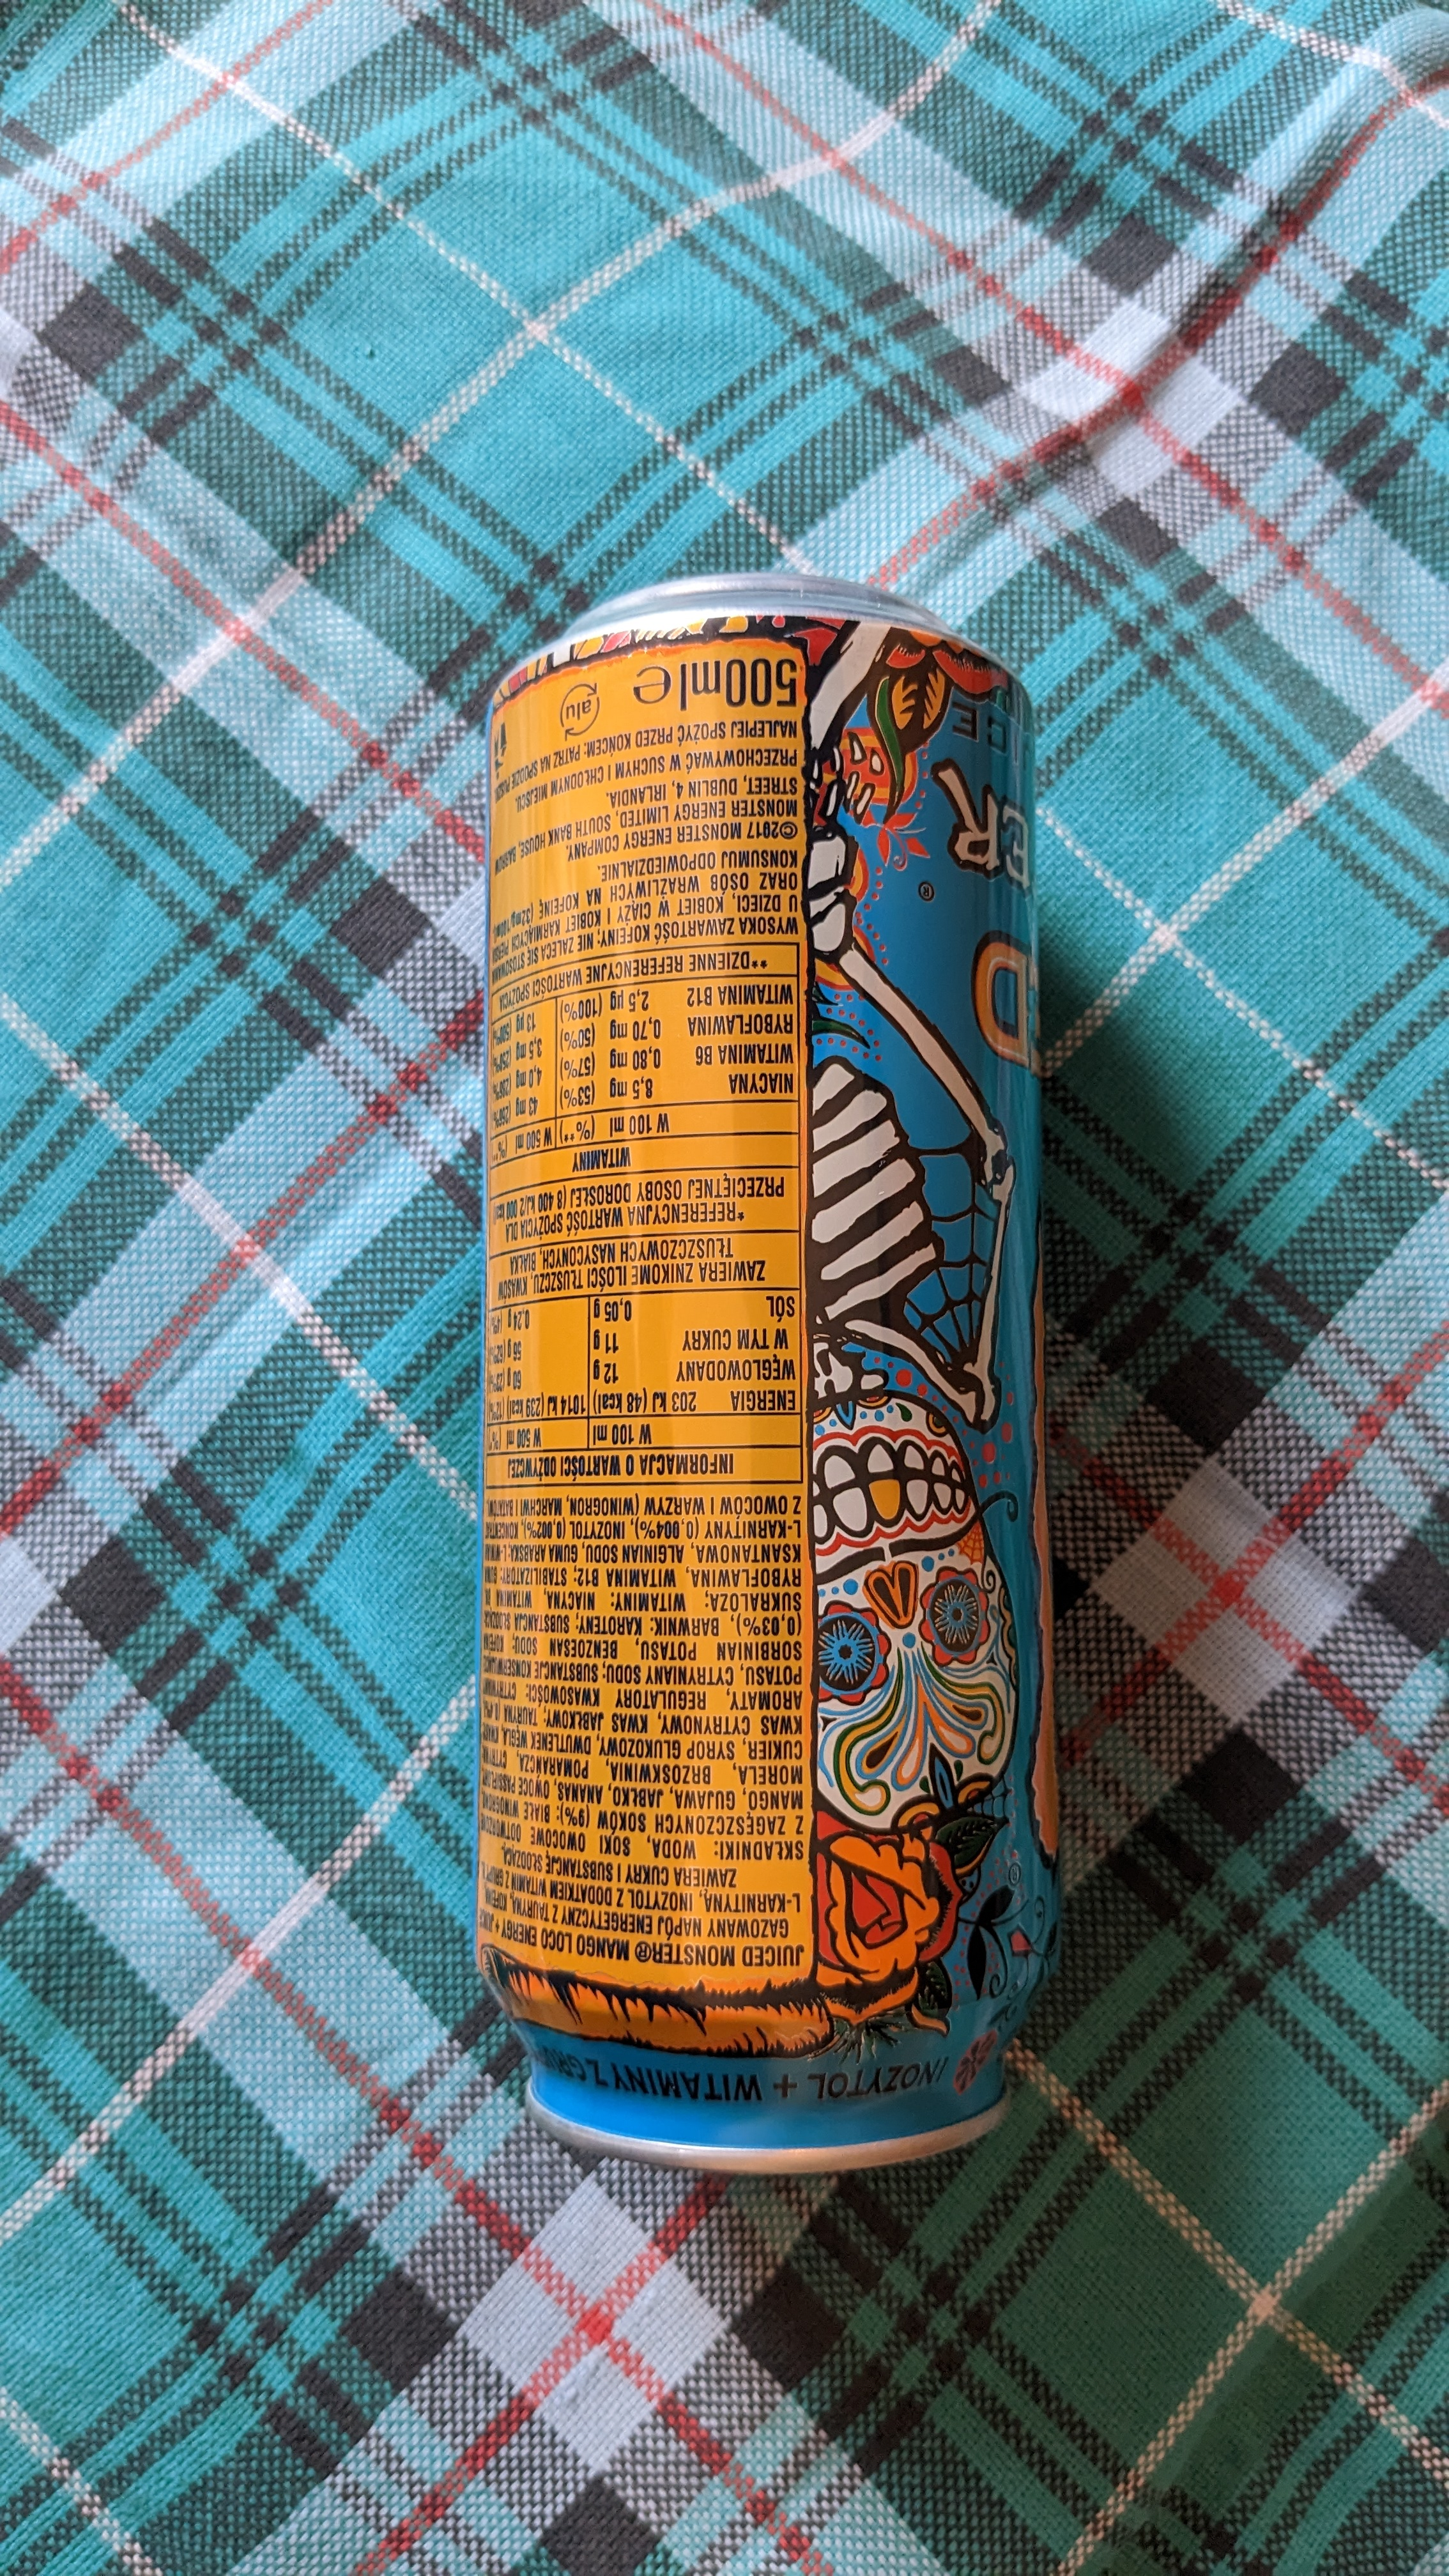monster: (449, 554, 1138, 2206)
